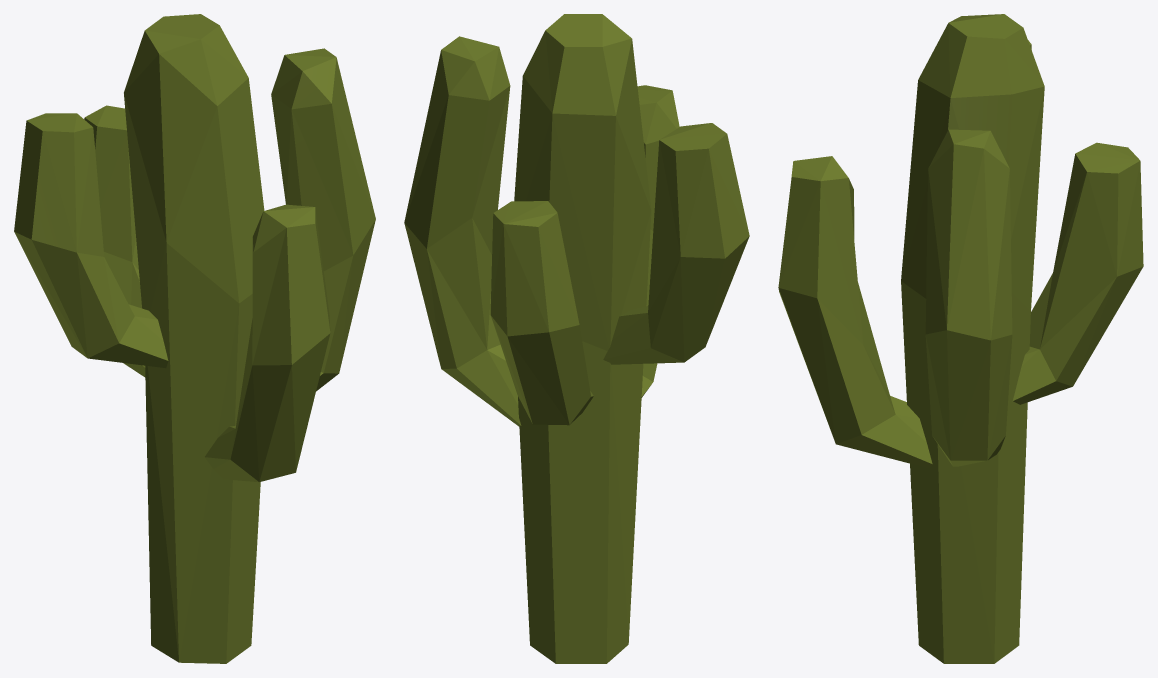
The model's file is Flat_Cactus_03.fbx.
3 views of the same model, side by side, from view 1: azimuth 30°, elevation 25°; view 2: azimuth 150°, elevation 25°; view 3: azimuth 270°, elevation 25° (orthographic).
Visible parts, largest first — view 1: Cactus_03; view 2: Cactus_03; view 3: Cactus_03.
Part boxes in pixels (<box>): Cactus_03: <box>14,14,375,663</box>; Cactus_03: <box>404,14,749,663</box>; Cactus_03: <box>778,14,1143,663</box>.
Size of the model in its own units: 198 by 353 by 189.
